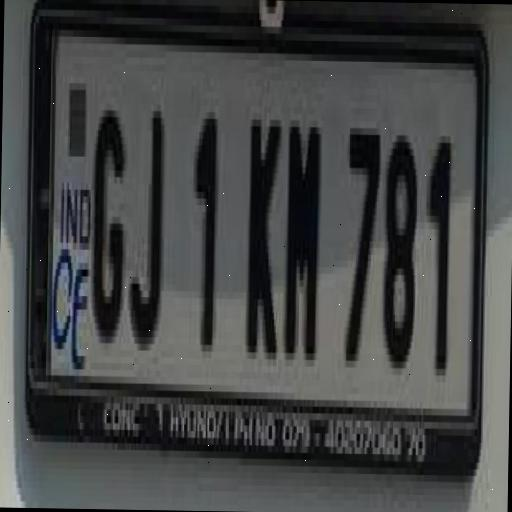number plate: (5, 16, 496, 450)
